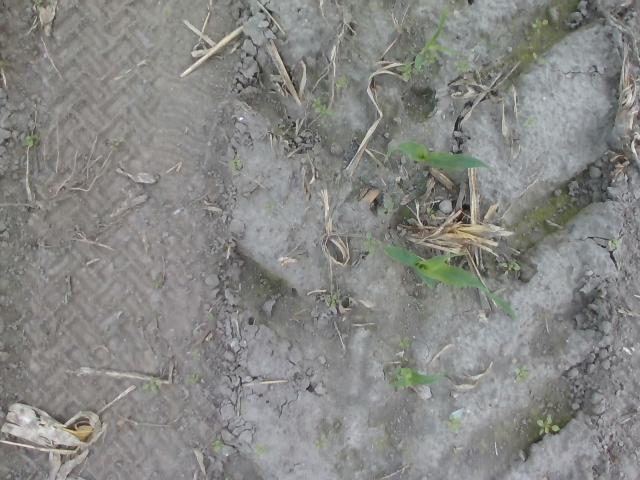Maize: (381, 242, 519, 322), (385, 138, 491, 170), (415, 3, 452, 71), (385, 366, 448, 390)
Weeds: (536, 414, 561, 436), (363, 230, 380, 256), (312, 98, 334, 114), (531, 16, 549, 35), (335, 74, 351, 90), (378, 200, 394, 216), (21, 134, 41, 146), (447, 416, 462, 432), (314, 432, 328, 449), (500, 261, 520, 272), (401, 62, 412, 82), (142, 378, 160, 390), (452, 61, 470, 72), (608, 238, 622, 250), (211, 440, 223, 453), (524, 116, 537, 128), (514, 367, 528, 378), (398, 336, 411, 347), (326, 295, 338, 306), (426, 208, 436, 220), (230, 158, 241, 168), (254, 444, 264, 455), (190, 375, 197, 383)
